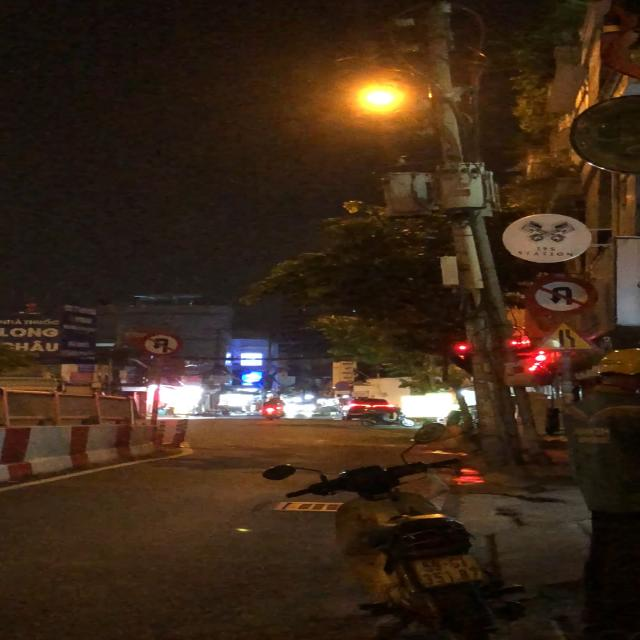Bien bao cam quay dau xe: (522, 274, 601, 315), (136, 331, 185, 359)
Bien bao duong bi thu hep: (529, 316, 599, 353)
